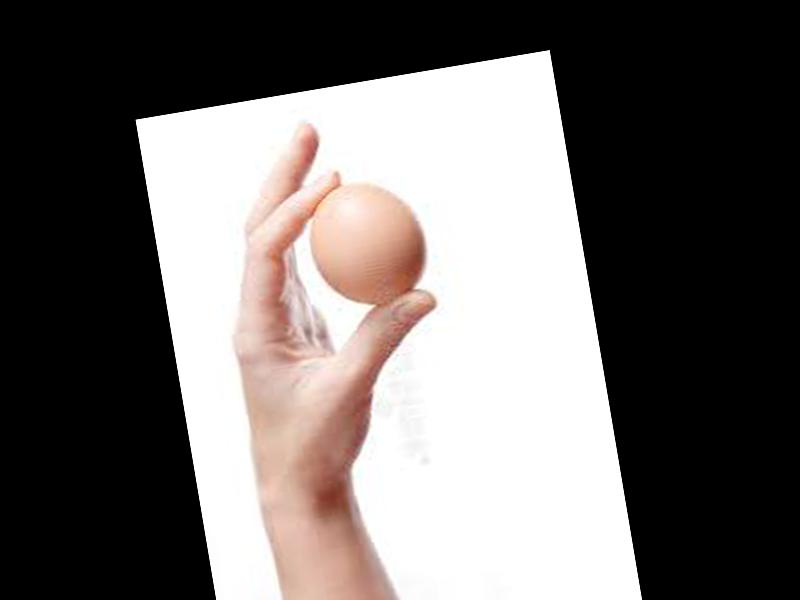Eggs: (304, 174, 433, 315)
